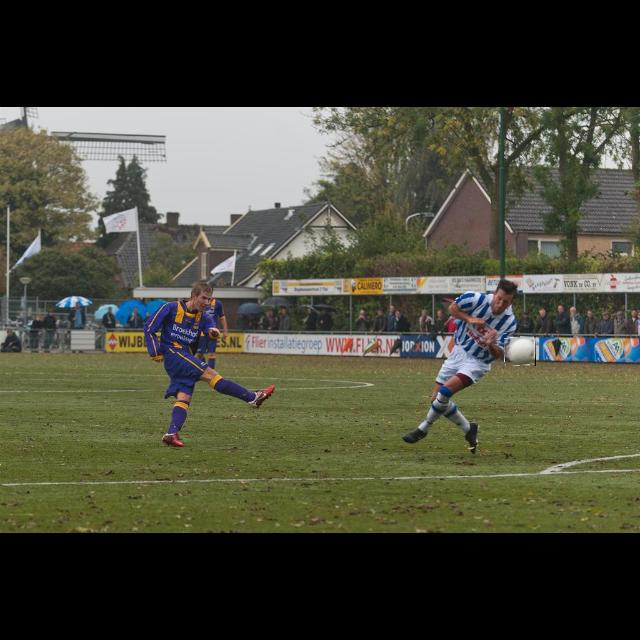Football: (504, 336, 536, 366)
